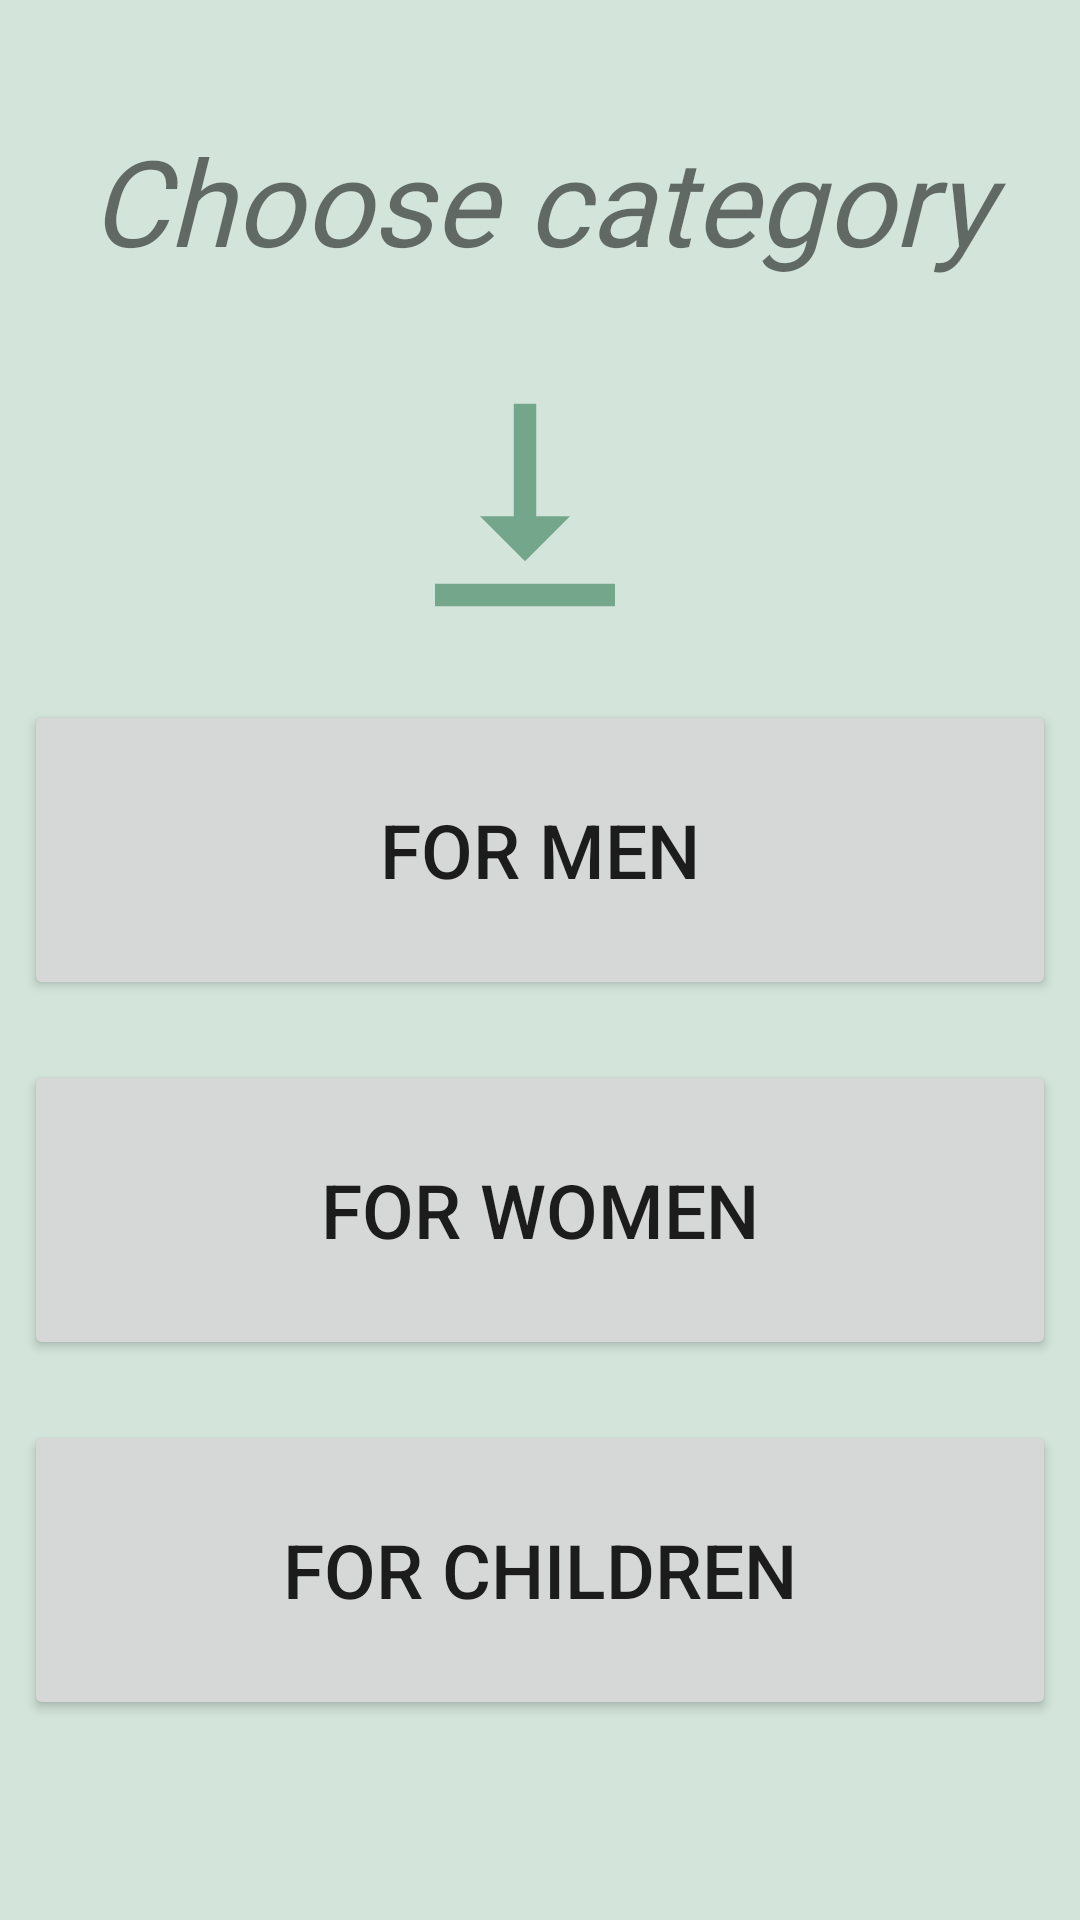

Screen size 1080w x 1920h. Icon name, then its box in pixels as {"left": x1, "top": y1, "right": x2, "bottom": y2}:
vertical align bottom: {"left": 435, "top": 404, "right": 615, "bottom": 606}
